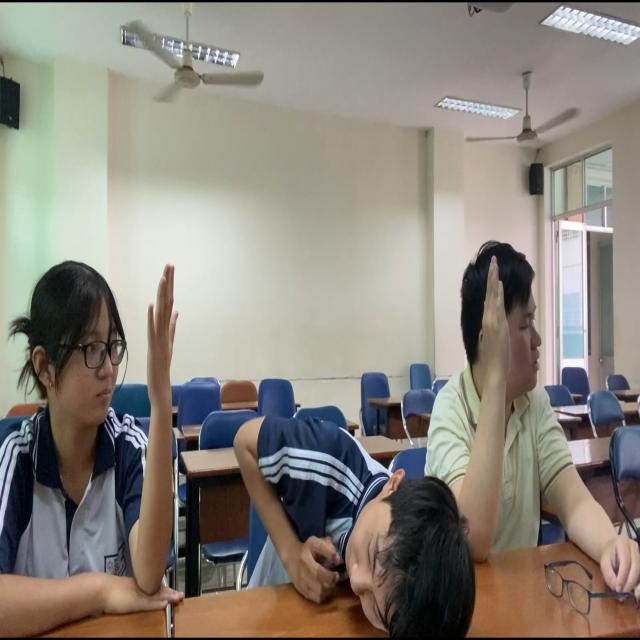raise_hand: (1, 257, 197, 633), (450, 236, 597, 557)
sleep: (232, 407, 481, 640)
